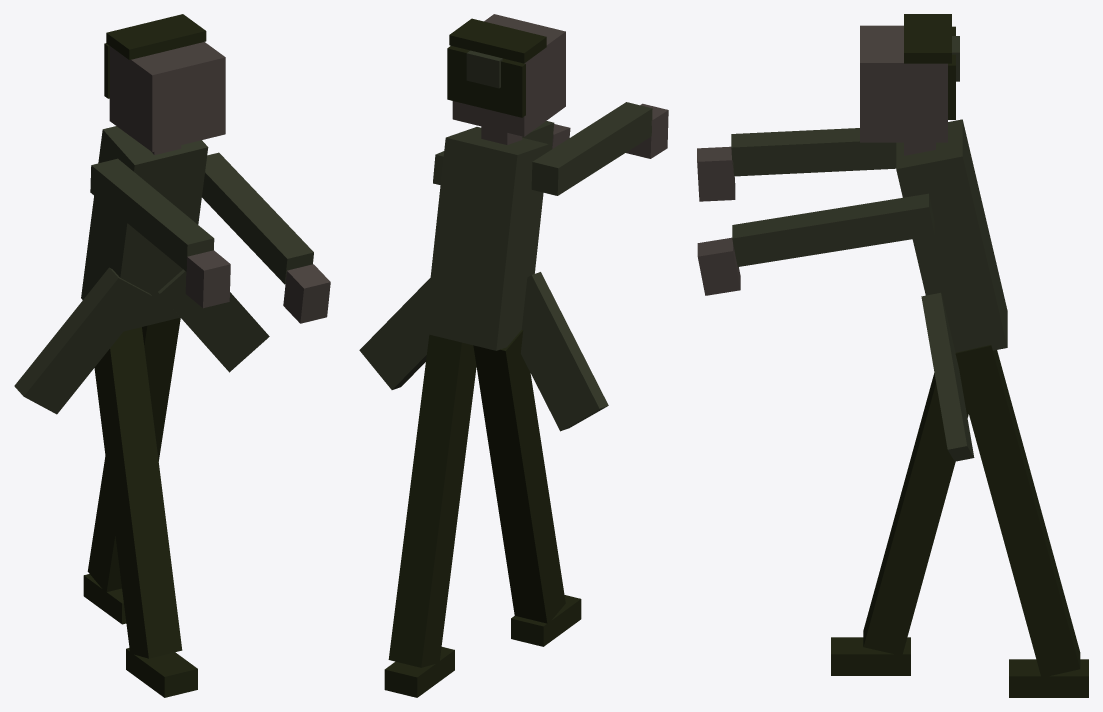
The model's file is SM_Zombi_v3_Civil_LOD0.fbx.
The picture shows the model from 3 angles, left to right: view 1: azimuth 30°, elevation 25°; view 2: azimuth 150°, elevation 25°; view 3: azimuth 270°, elevation 25°; orthographic projection. The views are drawn at different scales.
Parts seen in each view (by area): view 1: SM_zombi_fino_v3_LOD0; view 2: SM_zombi_fino_v3_LOD0; view 3: SM_zombi_fino_v3_LOD0.
Boxes of the visible parts, x1,y1,x2,y2 form: SM_zombi_fino_v3_LOD0: (14, 14, 330, 697); SM_zombi_fino_v3_LOD0: (359, 14, 668, 697); SM_zombi_fino_v3_LOD0: (697, 14, 1088, 697).
Size of the model in its own units: 0.7366 by 1.78 by 0.9796.
